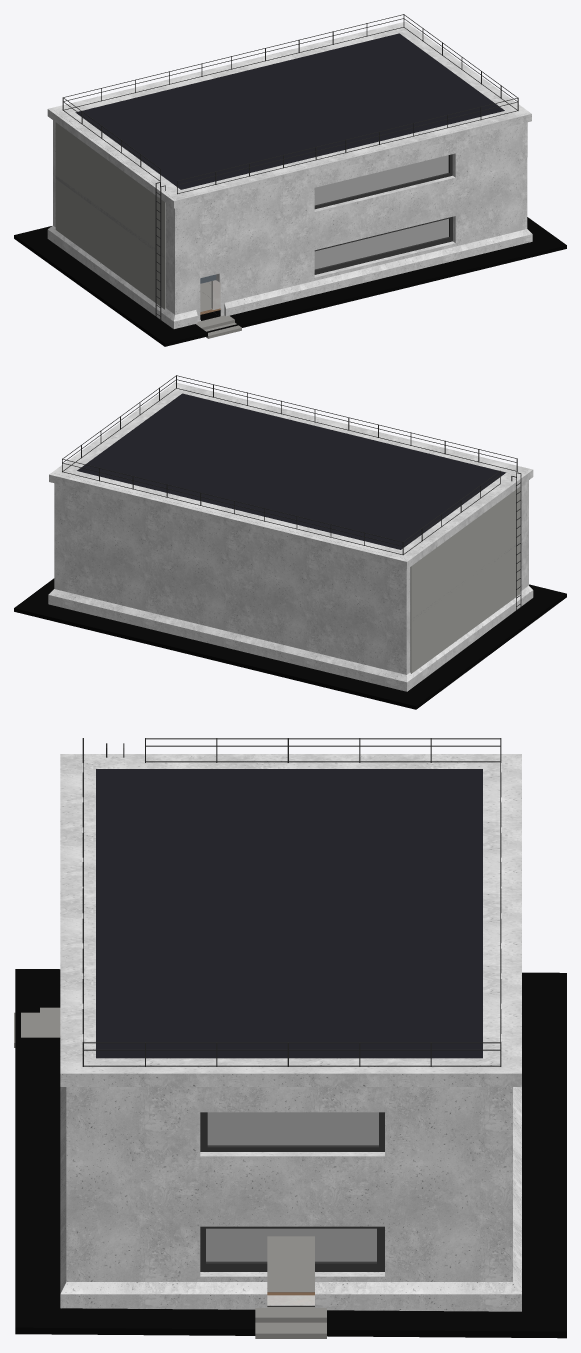
Rendered from command-post.access-v11.lod0.glb.
3 renders of one model, top to bottom at view 1: azimuth 30°, elevation 25°; view 2: azimuth 150°, elevation 25°; view 3: azimuth 270°, elevation 25°, orthographic. The views are drawn at different scales.
Parts seen in each view (by area): view 1: _1st_Inner_Floor_Floor_1_0, _1st_Inner_Floor_Outer_Walls_0, Inner_Railing_Railing_0, window_1_window_0; view 2: _1st_Inner_Floor_Outer_Walls_0, _1st_Inner_Floor_Floor_1_0, Inner_Railing_Railing_0; view 3: _1st_Inner_Floor_Floor_1_0, _1st_Inner_Floor_Outer_Walls_0, Inner_Railing_Railing_0, window_1_window_0.
Boxes of the visible parts, box(x1,y1,x2,y2) form: _1st_Inner_Floor_Floor_1_0: box(14, 33, 566, 346); _1st_Inner_Floor_Outer_Walls_0: box(47, 21, 532, 328); Inner_Railing_Railing_0: box(62, 14, 518, 320); window_1_window_0: box(314, 154, 452, 274); _1st_Inner_Floor_Outer_Walls_0: box(48, 382, 533, 691); _1st_Inner_Floor_Floor_1_0: box(14, 393, 566, 709); Inner_Railing_Railing_0: box(62, 375, 521, 610); _1st_Inner_Floor_Floor_1_0: box(14, 769, 566, 1338); _1st_Inner_Floor_Outer_Walls_0: box(60, 754, 521, 1311); Inner_Railing_Railing_0: box(82, 738, 501, 1066); window_1_window_0: box(200, 1112, 384, 1271).
Bounding box in the file's own units: 28.55 × 9.96 × 18.56.
5 materials, 2 textured.
